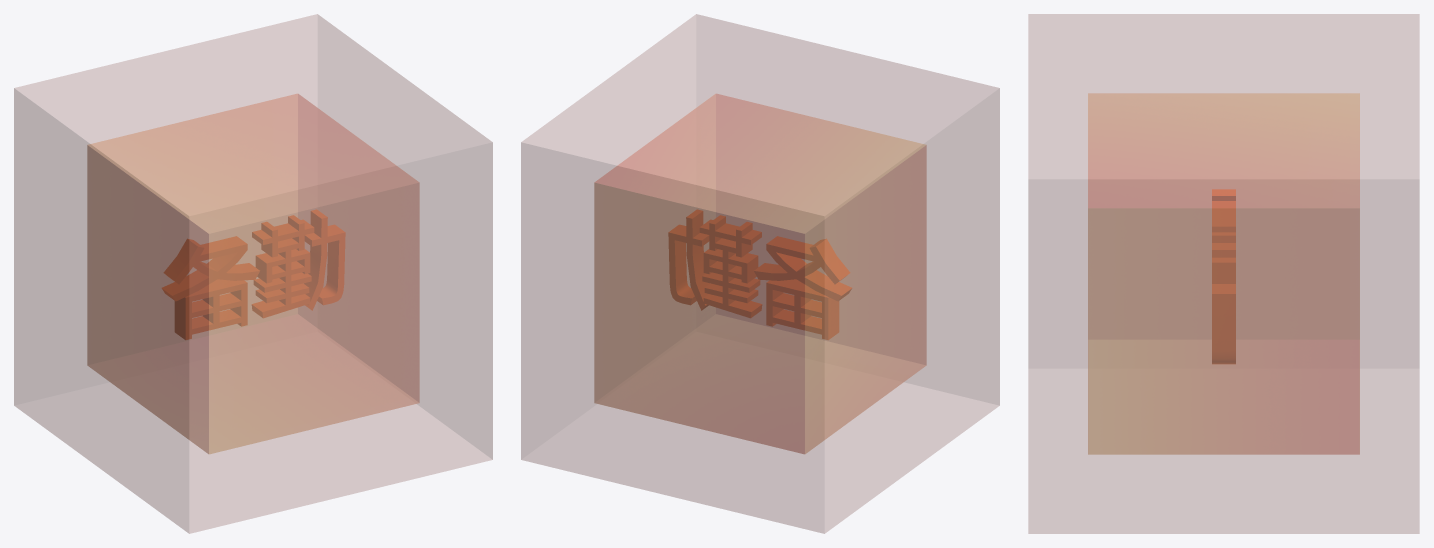
Rendered from beiqin.68ba9fe.glb.
3 renders of one model, left to right at view 1: azimuth 30°, elevation 25°; view 2: azimuth 150°, elevation 25°; view 3: azimuth 270°, elevation 25°, orthographic. The views are drawn at different scales.
Parts seen in each view (by area): view 1: Box012, 行政002, Text004; view 2: Box012, 行政002, Text004; view 3: Box012, 行政002, Text004.
Boxes of the visible parts, x1,y1,x2,y2 form: Box012: (14,14,492,533); 行政002: (87,93,419,454); Text004: (162,209,345,339); Box012: (521,14,999,533); 行政002: (594,93,926,454); Text004: (668,209,851,339); Box012: (1028,14,1419,533); 行政002: (1088,93,1359,454); Text004: (1212,189,1235,363).
Bounding box in the file's own units: 0.6451 × 0.6451 × 0.6451.
3 materials, 2 textured.
